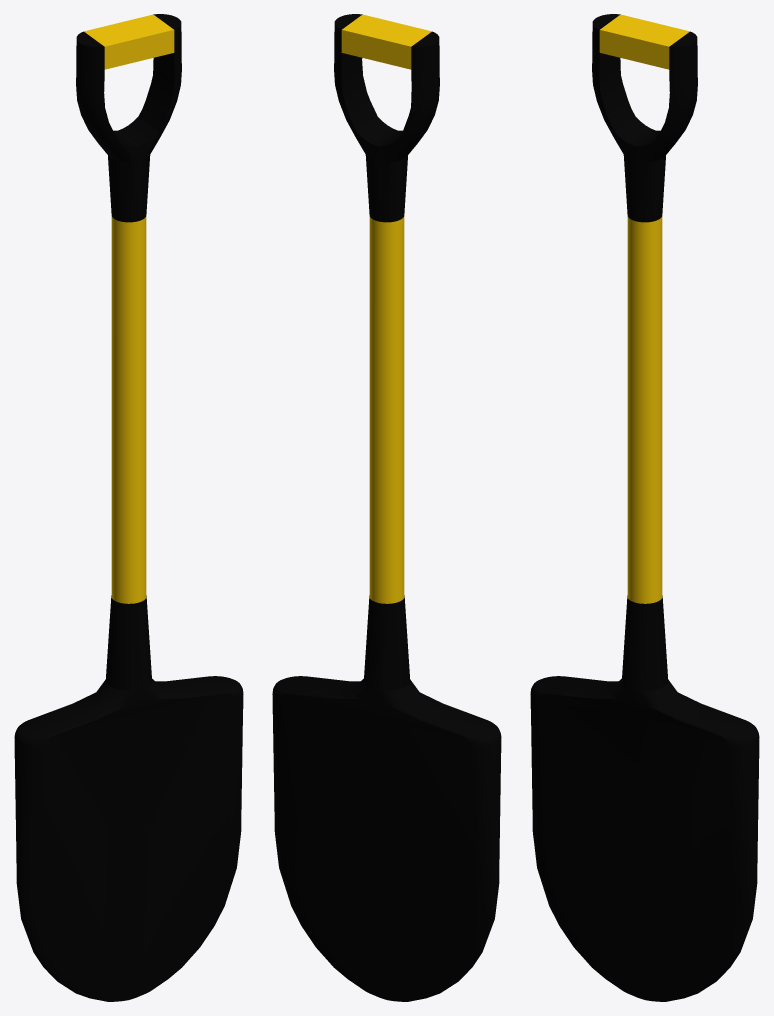
Rendered from shovel.fbx.
3 renders of one model, left to right at view 1: azimuth 30°, elevation 25°; view 2: azimuth 150°, elevation 25°; view 3: azimuth 330°, elevation 25°, orthographic.
Parts seen in each view (by area): view 1: shovel; view 2: shovel; view 3: shovel.
Part boxes in pixels (box(x1,y1,x2,y2)): shovel: box(14, 14, 243, 1001); shovel: box(272, 14, 501, 1001); shovel: box(530, 14, 759, 1001).
Size of the model in its own units: 23.2 by 96.45 by 4.2.
